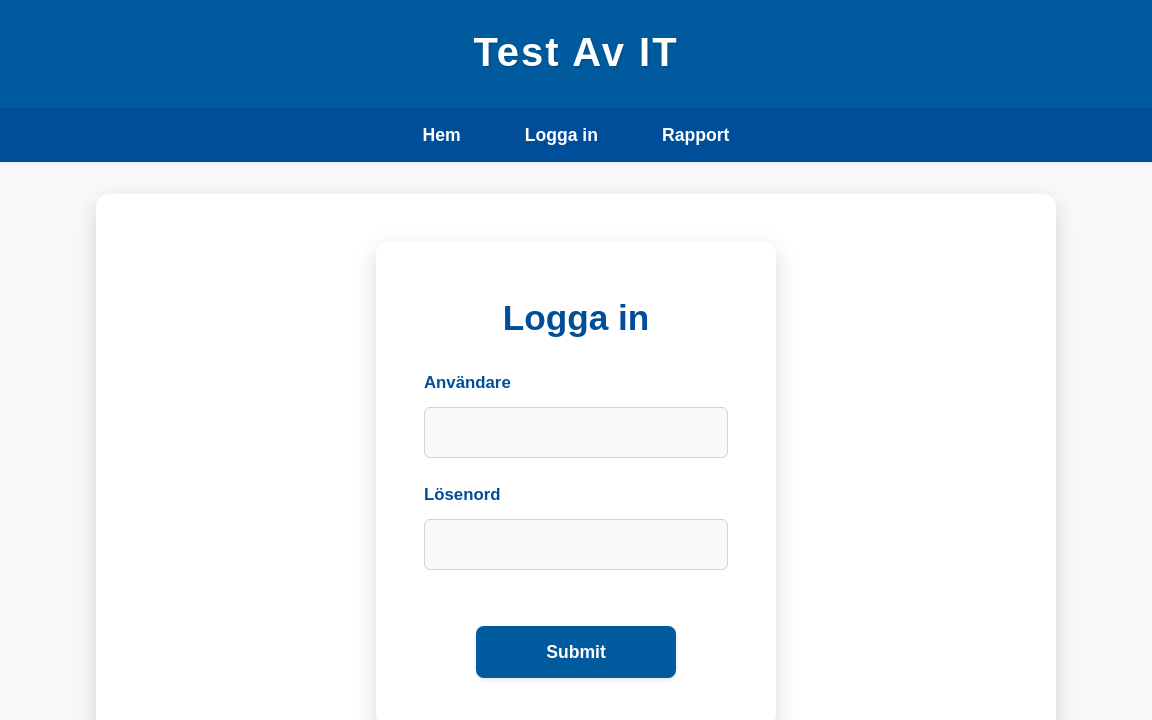
it: Inloggning › loggar in med giltiga uppgifter
Type "test" into the field with test id "input-username".
click(576, 433); type("test")  # box x1=424 y1=407 x2=728 y2=459
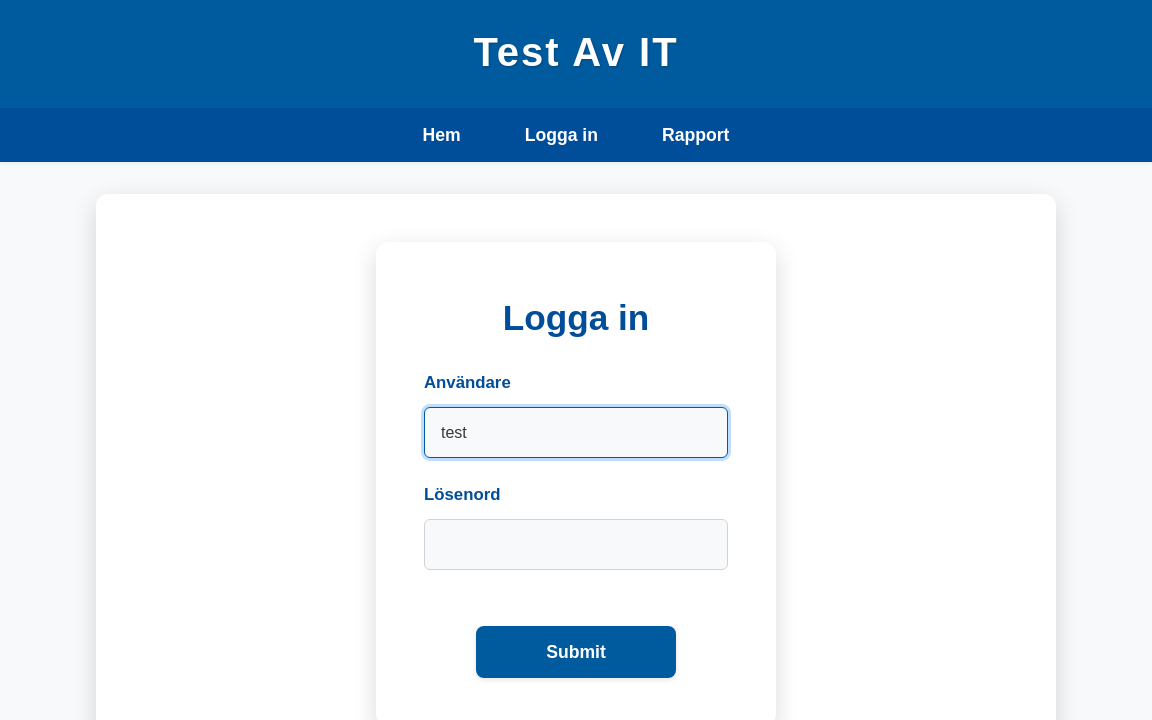
Type "password" into the password field with test id "input-password".
click(576, 545); type("password")  # box x1=424 y1=519 x2=728 y2=571
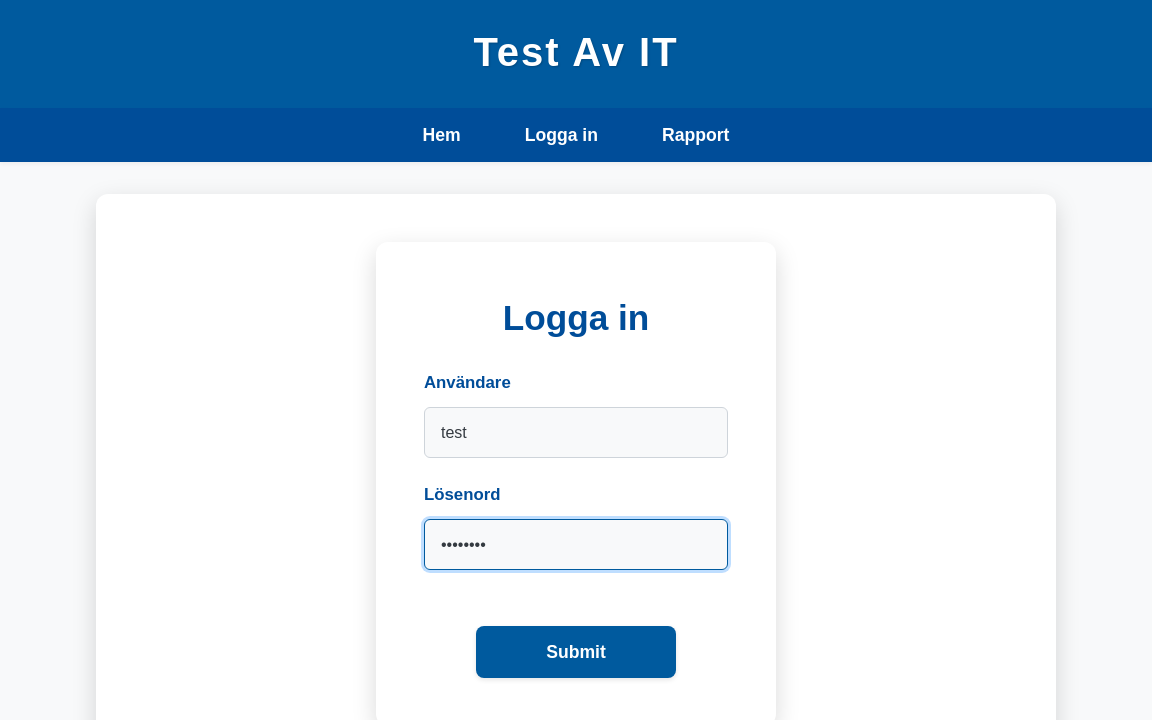
Click the button with test id "btn-submit".
click(576, 652)  # box x1=476 y1=626 x2=676 y2=678
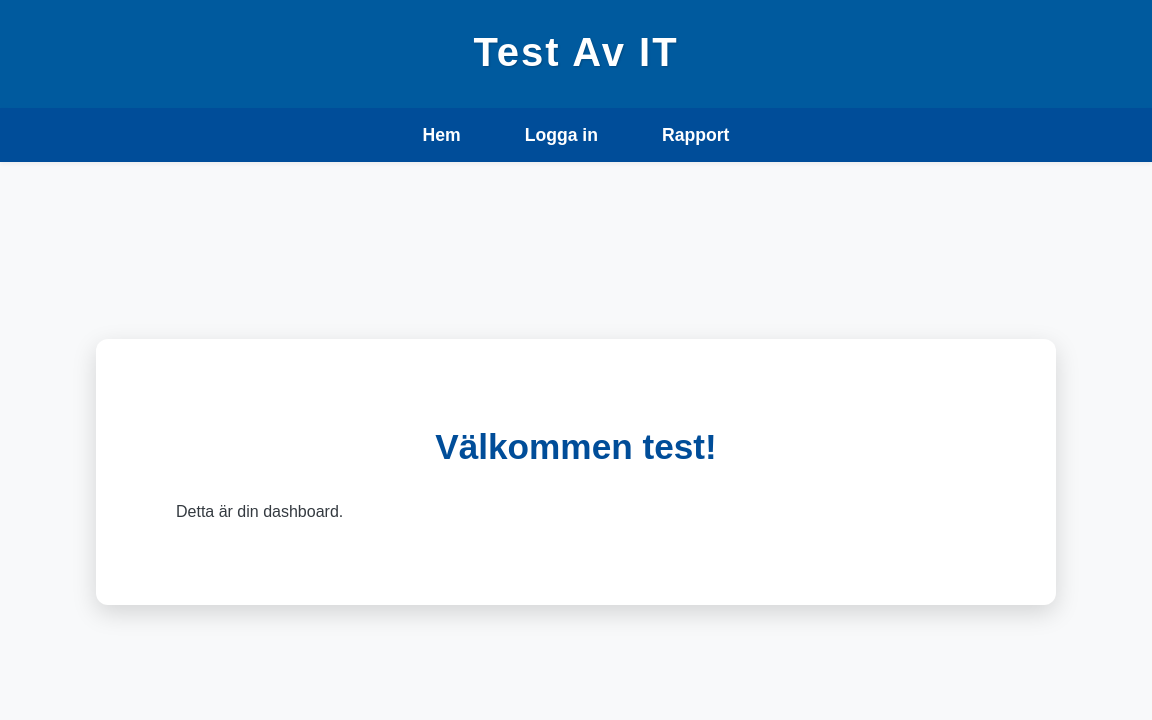
Expected: the heading "Välkommen test!" is shown, x1=435 y1=427 x2=717 y2=466
